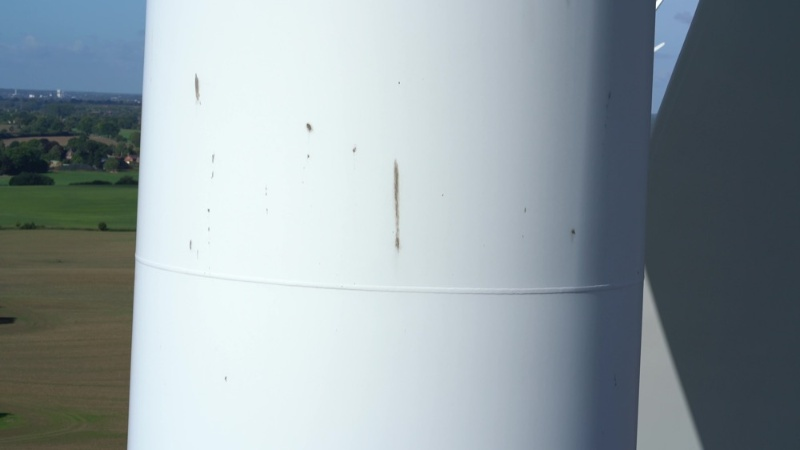weldseam: (132, 249, 646, 299)
